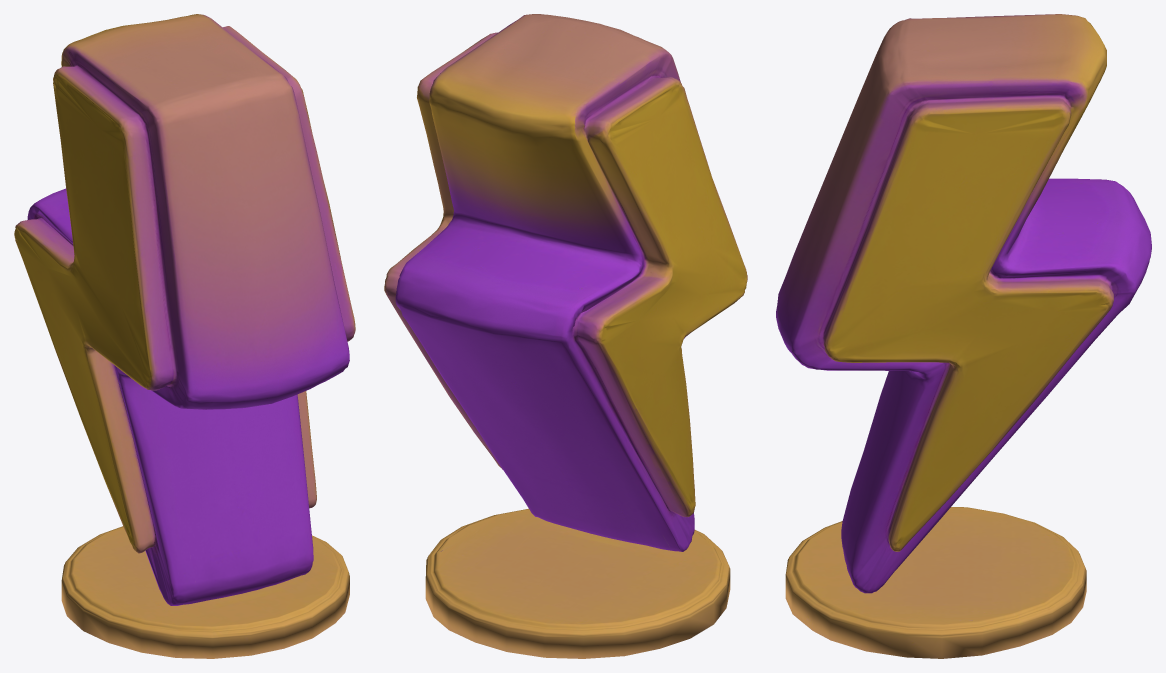
Rendered from r33-lightning.glb.
The picture shows the model from 3 angles, left to right: view 1: azimuth 30°, elevation 25°; view 2: azimuth 150°, elevation 25°; view 3: azimuth 270°, elevation 25°; orthographic projection. The views are drawn at different scales.
Visible parts, largest first — view 1: tripo_node_28be2db8-cbaf-4f27-8bb0-68274fa2e390; view 2: tripo_node_28be2db8-cbaf-4f27-8bb0-68274fa2e390; view 3: tripo_node_28be2db8-cbaf-4f27-8bb0-68274fa2e390.
Part boxes in pixels (x1,y1,x2,y2): tripo_node_28be2db8-cbaf-4f27-8bb0-68274fa2e390: (14, 14, 355, 658); tripo_node_28be2db8-cbaf-4f27-8bb0-68274fa2e390: (384, 14, 747, 658); tripo_node_28be2db8-cbaf-4f27-8bb0-68274fa2e390: (776, 14, 1151, 658).
Size of the model in its own units: 0.502 by 0.998 by 0.6191.
Materials: 1 (1 with a texture image).
